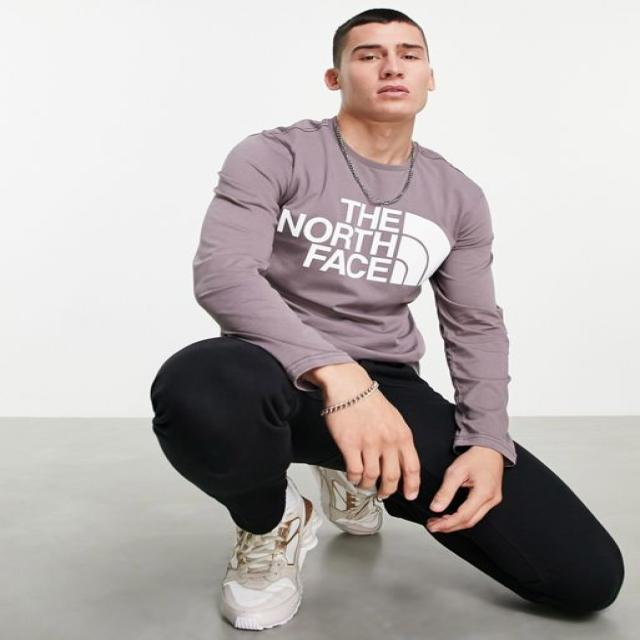tshirt: (188, 113, 519, 465)
